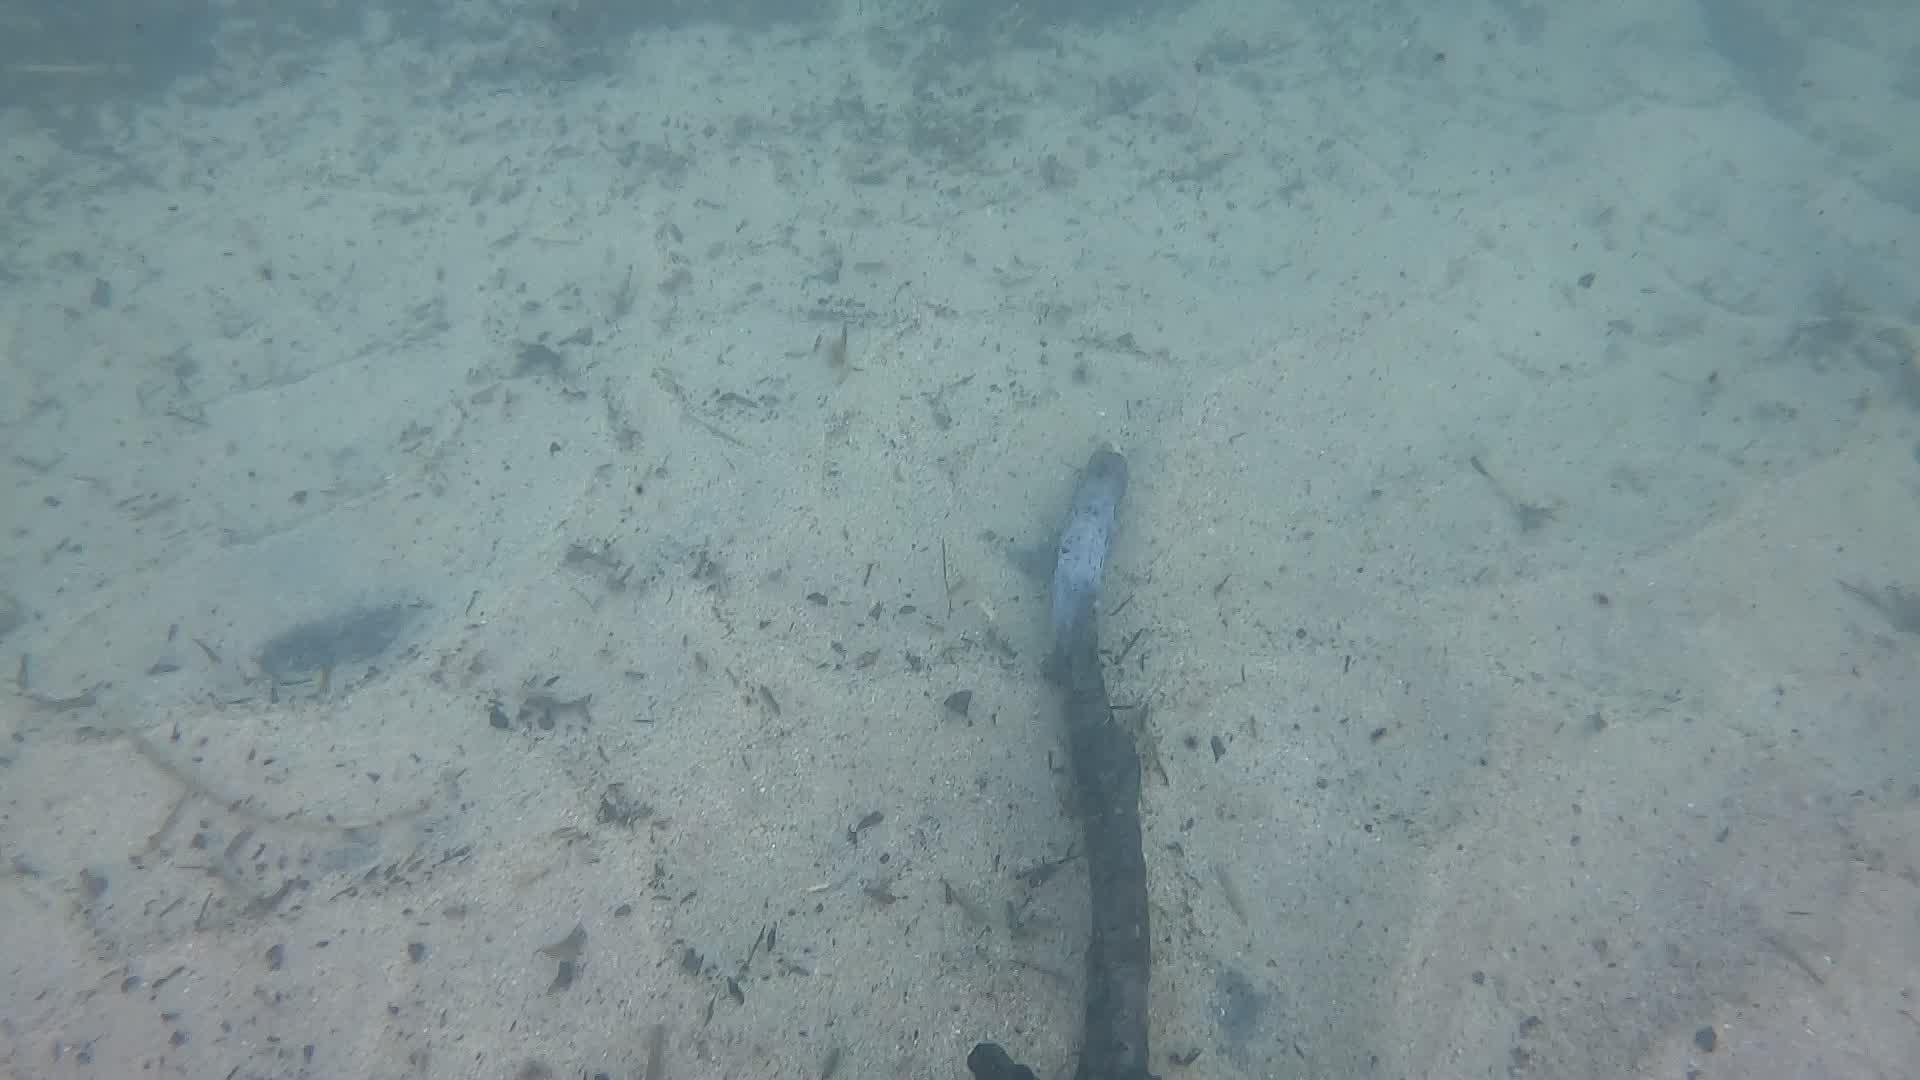wood: (1046, 435, 1153, 1080)
